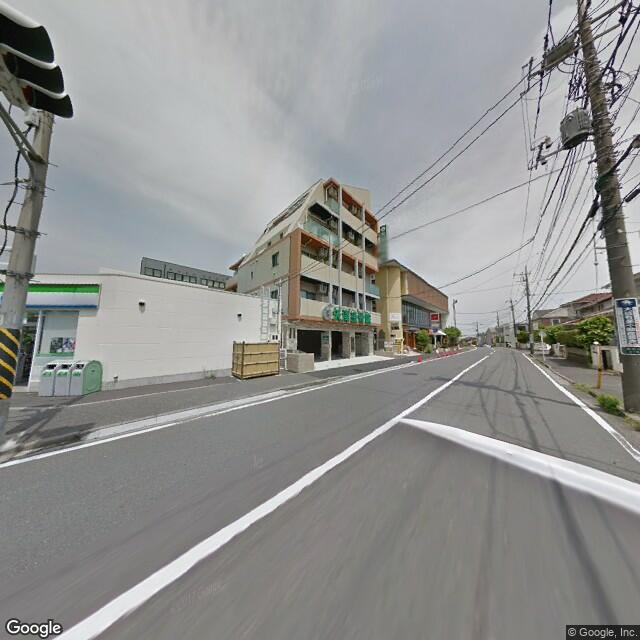family_mart: (23, 277, 103, 314)
